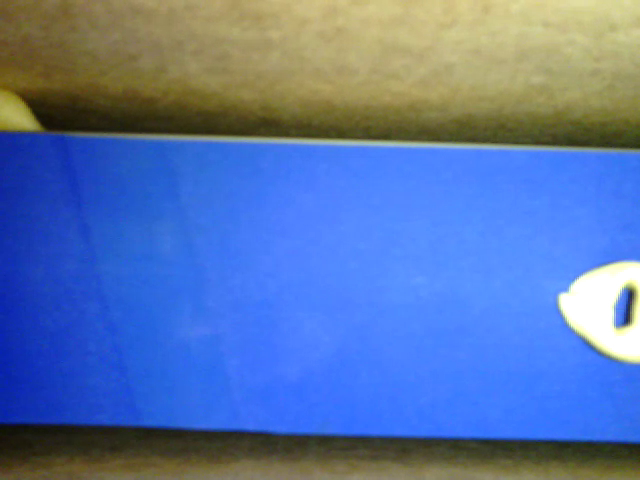tortellini: (556, 259, 639, 364)
